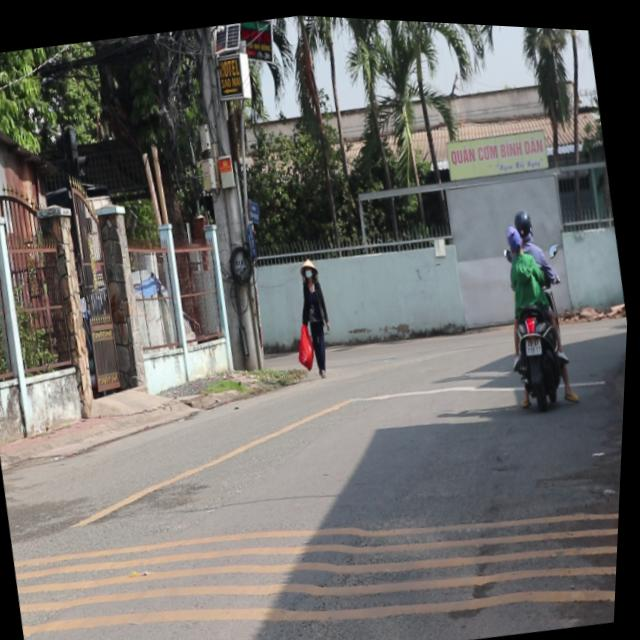helmet: (510, 200, 537, 241)
licenseplate: (483, 195, 584, 408)
motorcyclist: (501, 215, 524, 248)
nohelmet: (524, 328, 543, 348)
